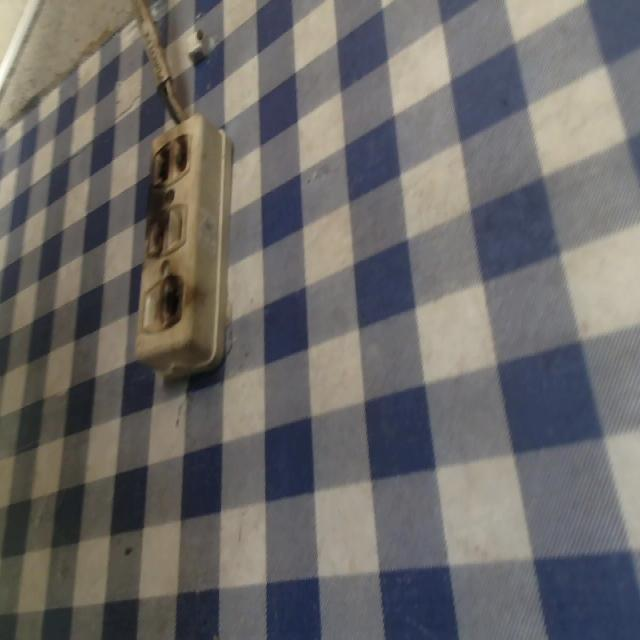-: (143, 132, 201, 191), (136, 204, 174, 259), (158, 272, 192, 329)
